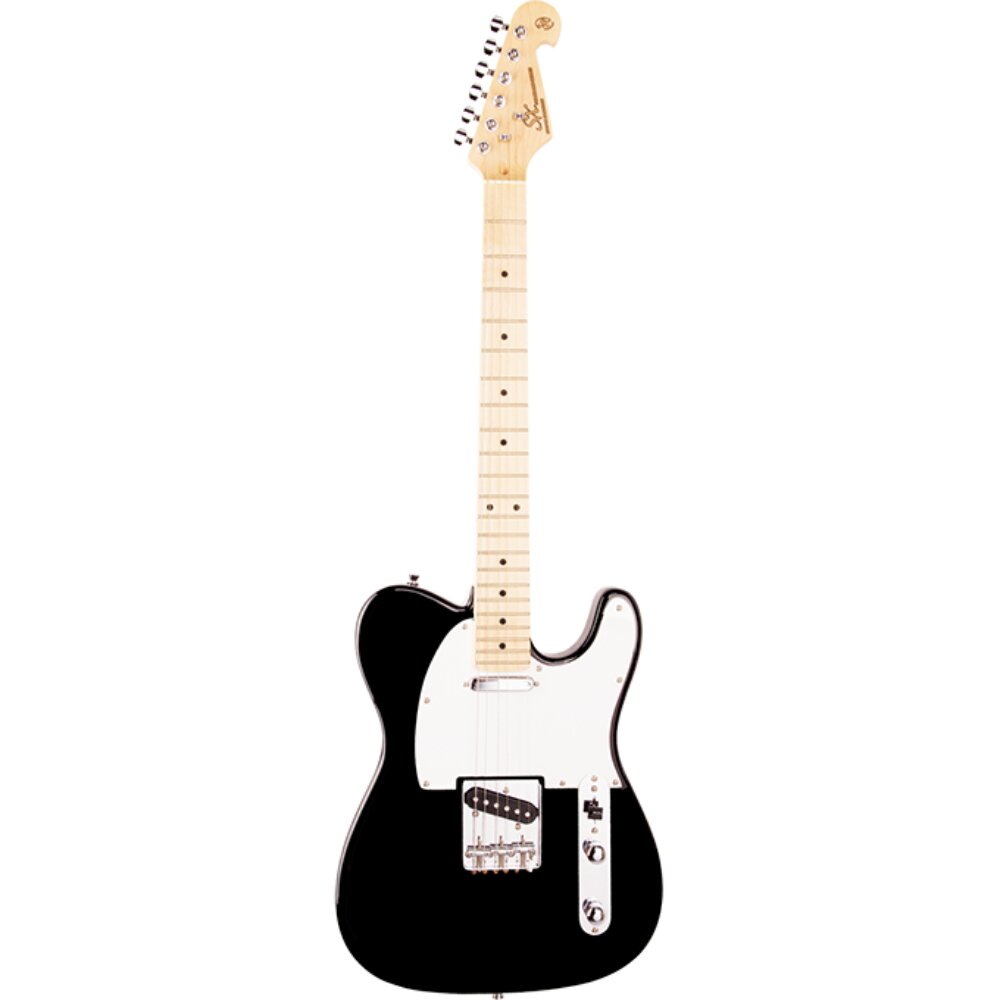ElectricGuitar: (329, 10, 660, 994)
